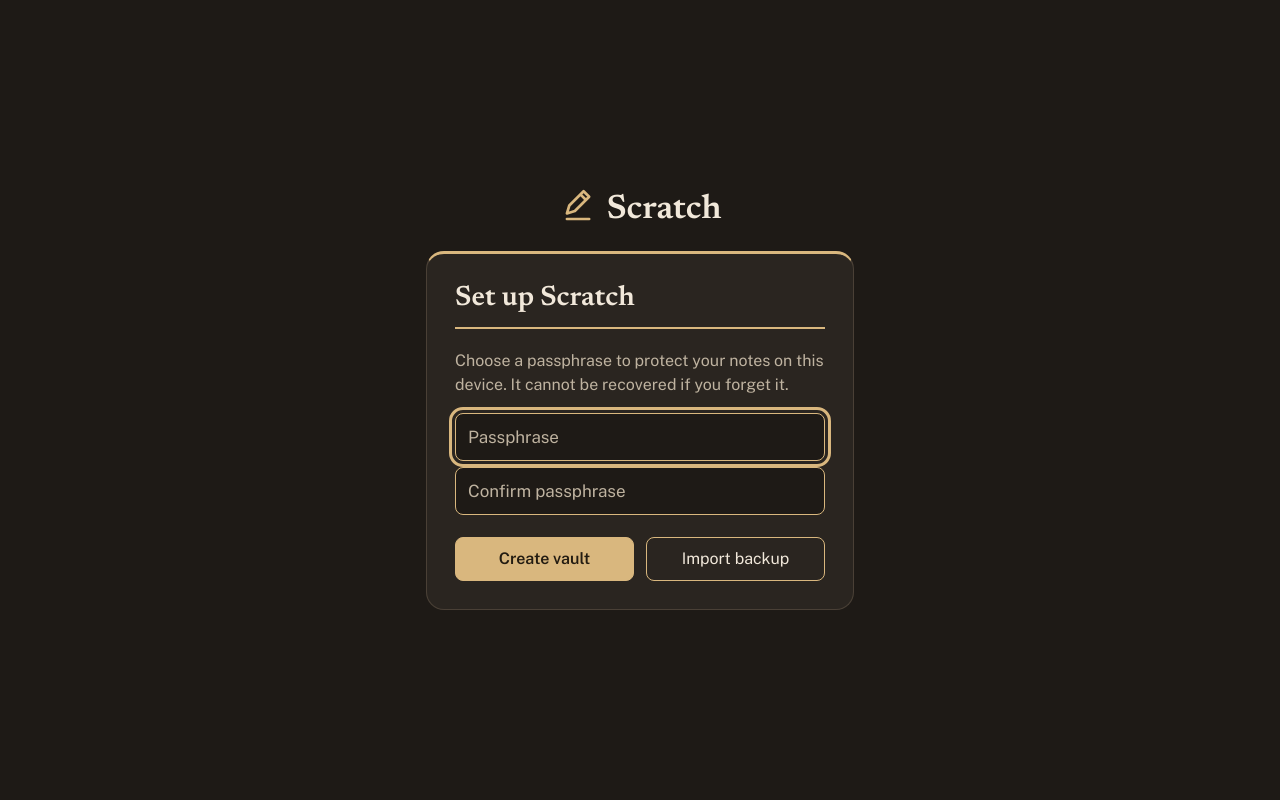
Test: first-use import › closes with Cancel and leaves setup available
Click the button "Import backup": click(736, 559) [646,537,825,581]
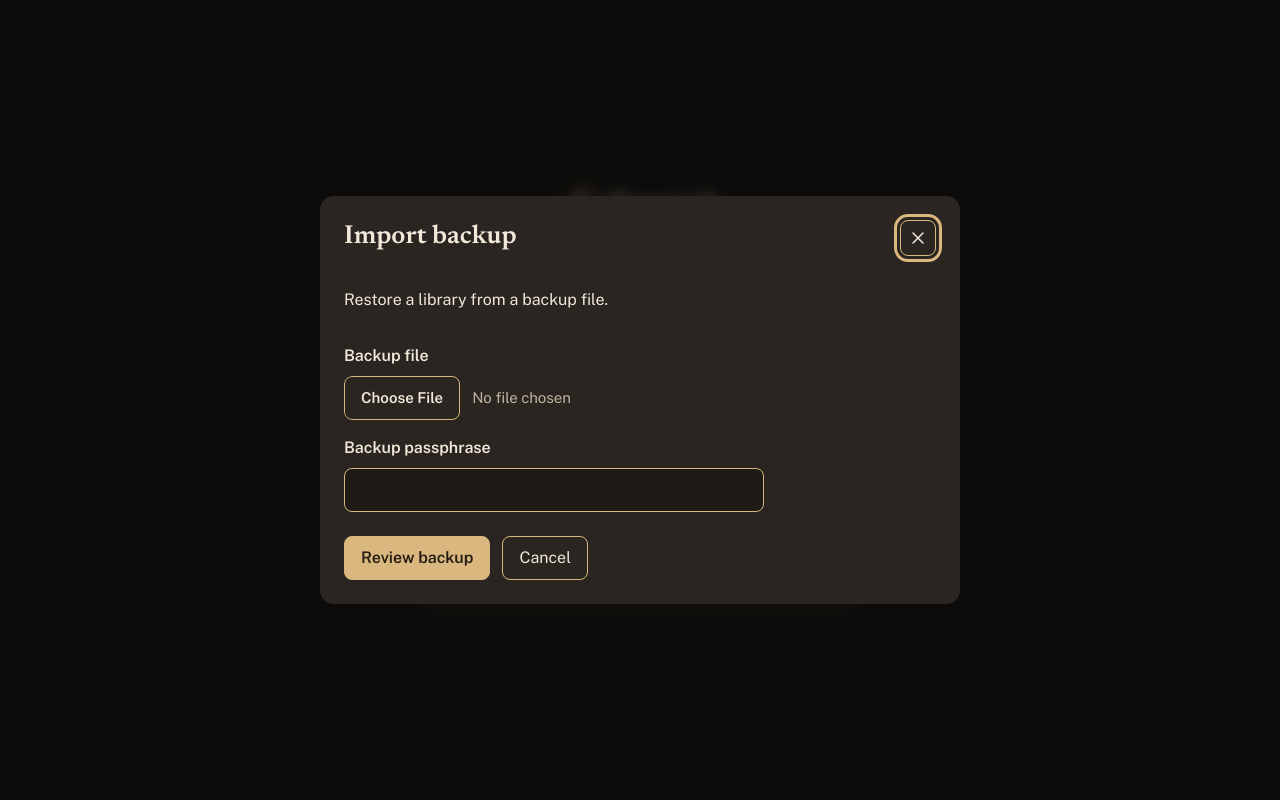
Click the button "Cancel": click(545, 558) [502,536,588,580]
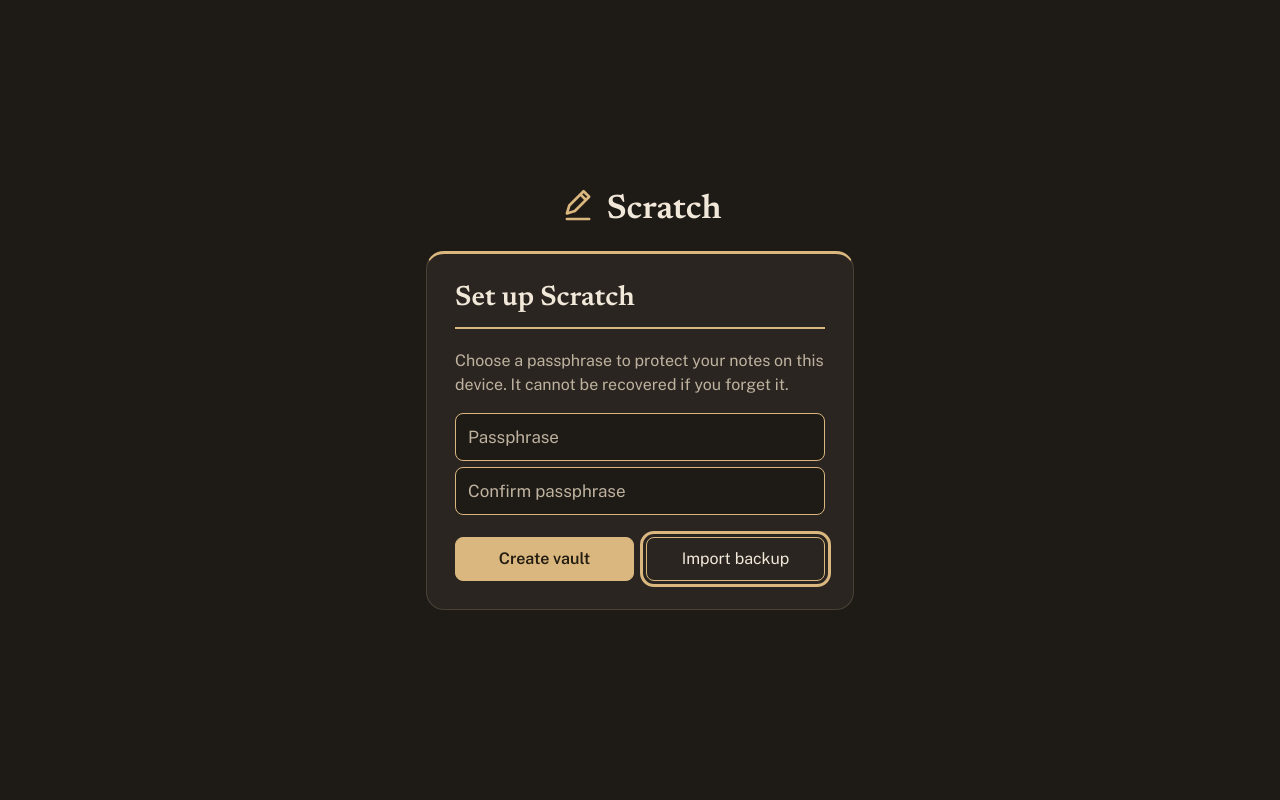
Check: the heading "Set up Scratch" is shown, box [455,282,825,329]
Check: the dialog is gone
